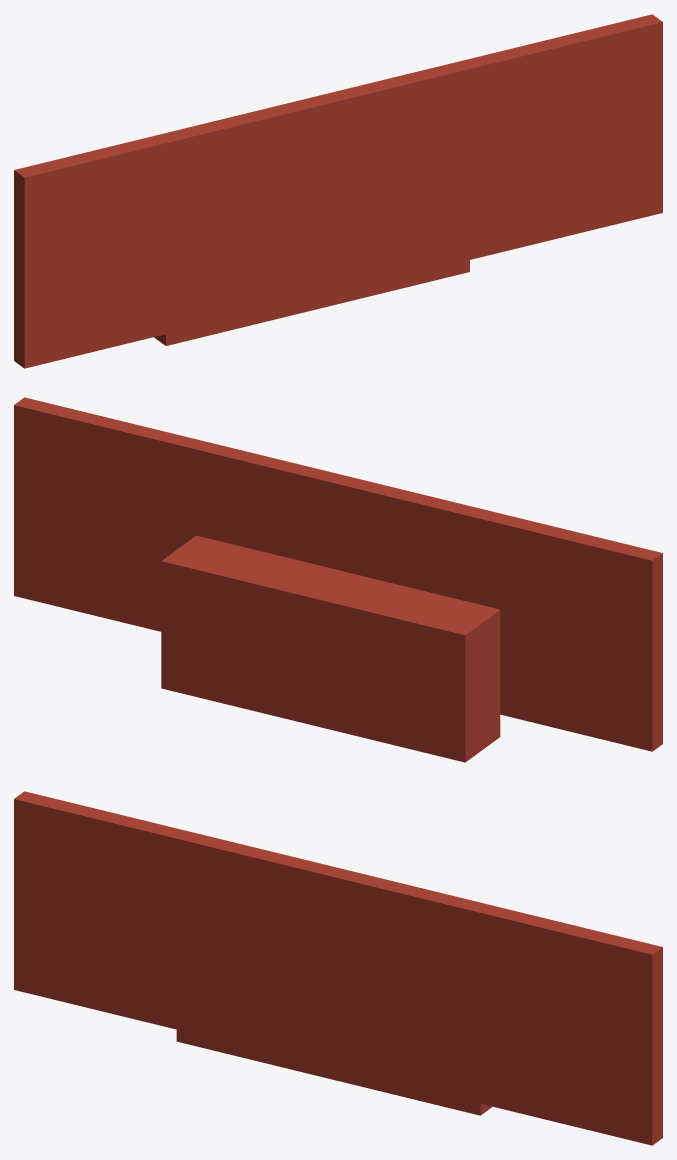
File: pickup_bed_side.glb
3 views of the same model, one above another, from view 1: azimuth 30°, elevation 25°; view 2: azimuth 150°, elevation 25°; view 3: azimuth 330°, elevation 25° (orthographic).
Visible parts, largest first — view 1: body:compound; view 2: body:compound; view 3: body:compound.
Part boxes in pixels (left/top/right/bottom): body:compound: left=14, top=14, right=662, bottom=368; body:compound: left=14, top=397, right=662, bottom=762; body:compound: left=14, top=791, right=662, bottom=1145.
Bounding box in the file's own units: 2.1 × 0.67 × 0.26.
